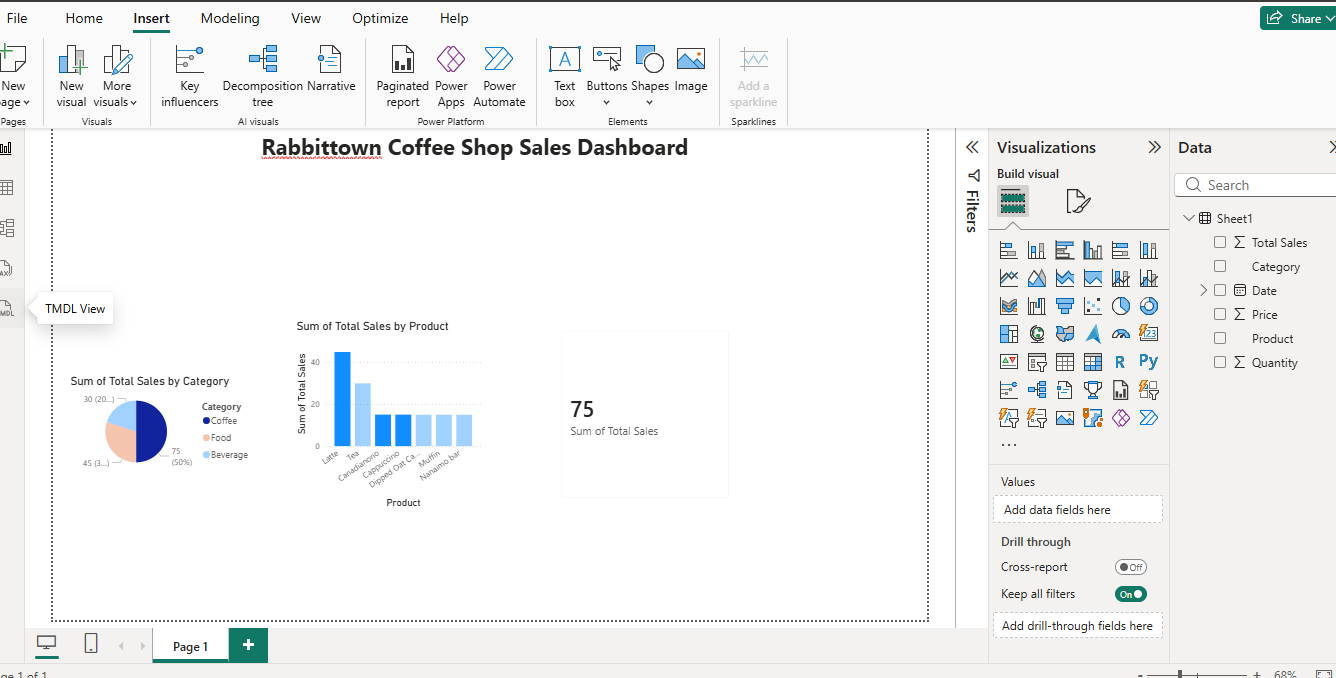

This screenshot's page, from the dashboard's own definition file:
{"tool":"powerbi","page":{"name":"Page 1","canvas":[1280,720],"ordinal":0},"visuals":[{"type":"cardVisual","fields":{"Data":["Sum(Sheet1. Total Sales)"]},"box":[727.3,279.5,279.5,279.5],"z":0},{"type":"clusteredColumnChart","fields":{"Category":["Sheet1.Product"],"Y":["Sum(Sheet1. Total Sales)"]},"box":[351.2,279.5,279.5,281],"z":1},{"type":"pieChart","fields":{"Category":["Sheet1.Category"],"Y":["Sum(Sheet1. Total Sales)"]},"box":[20.5,360,279.5,149.3],"z":2},{"type":"textbox","box":[300,0,660,279.5],"z":3}]}

Visuals, with their boxes on the page's 1280x720 design canvas (x1, y1, x2, y2). These are canvas units, not pixel positions in the 1336x678 screenshot, which may show the page scaled, cropped or inside an application window:
cardVisual - Sum(Sheet1. Total Sales): box=[727, 280, 1007, 559]
clusteredColumnChart - Sheet1.Product x Sum(Sheet1. Total Sales): box=[351, 280, 631, 560]
pieChart - Sheet1.Category x Sum(Sheet1. Total Sales): box=[20, 360, 300, 509]
textbox: box=[300, 0, 960, 280]
